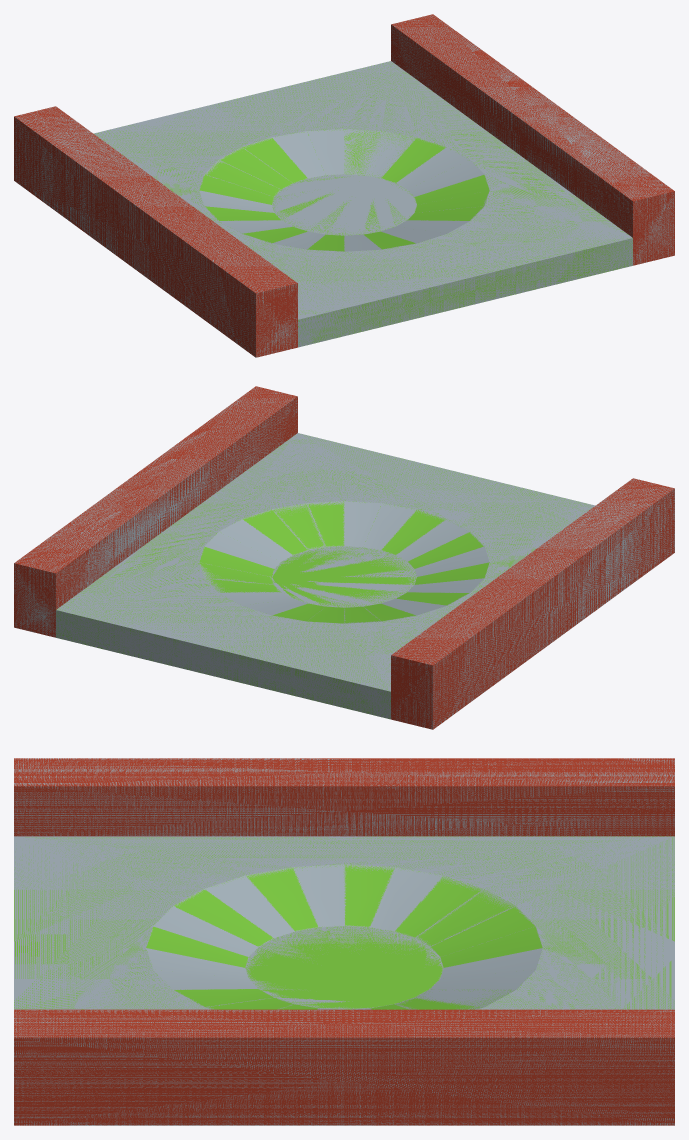
File: Bump_down_walls_01.obj
3 views of the same model, one above another, from view 1: azimuth 30°, elevation 25°; view 2: azimuth 150°, elevation 25°; view 3: azimuth 270°, elevation 25° (orthographic). The views are drawn at different scales.
Visible parts, largest first — view 1: Mesh1 Bump_down_walls Model; view 2: Mesh1 Bump_down_walls Model; view 3: Mesh1 Bump_down_walls Model.
Boxes of the visible parts, box(x1,y1,x2,y2) form: Mesh1 Bump_down_walls Model: box(14, 14, 674, 357); Mesh1 Bump_down_walls Model: box(14, 386, 674, 729); Mesh1 Bump_down_walls Model: box(14, 758, 674, 1125).
Size of the model in its own units: 3 by 0.44 by 3.
